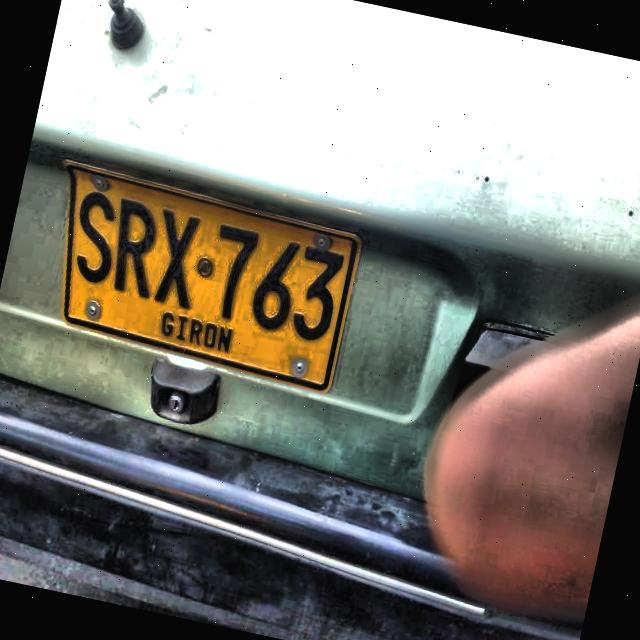plate: (61, 160, 362, 394)
